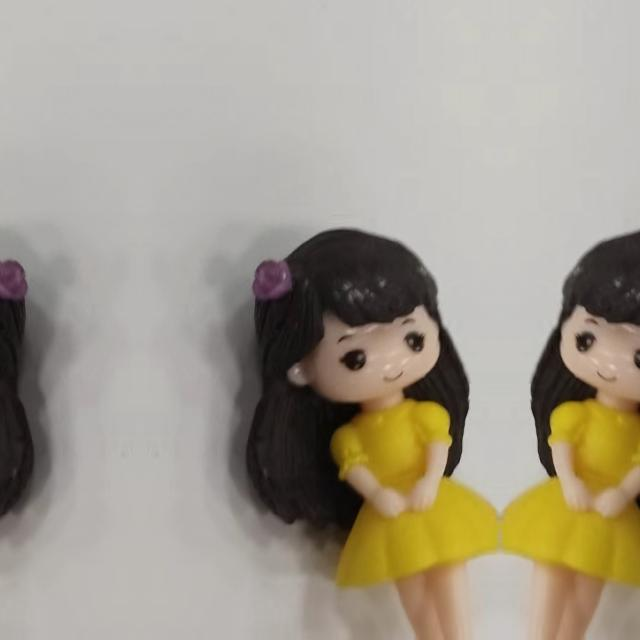woman dress: (326, 390, 500, 640), (499, 390, 640, 639)
woman head: (230, 226, 462, 414), (538, 225, 640, 414), (0, 225, 50, 414)
